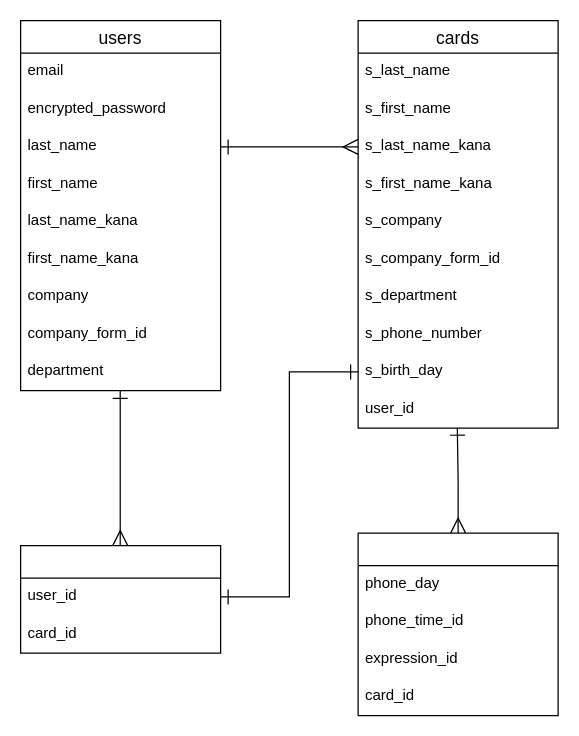
Image size: 579x736. Some labels were removed from this diagram. The box of each missing label's shape, as (x1, y1, x2, y2) in pixels:
favorites: (19, 544, 221, 653)
records: (357, 532, 558, 716)
